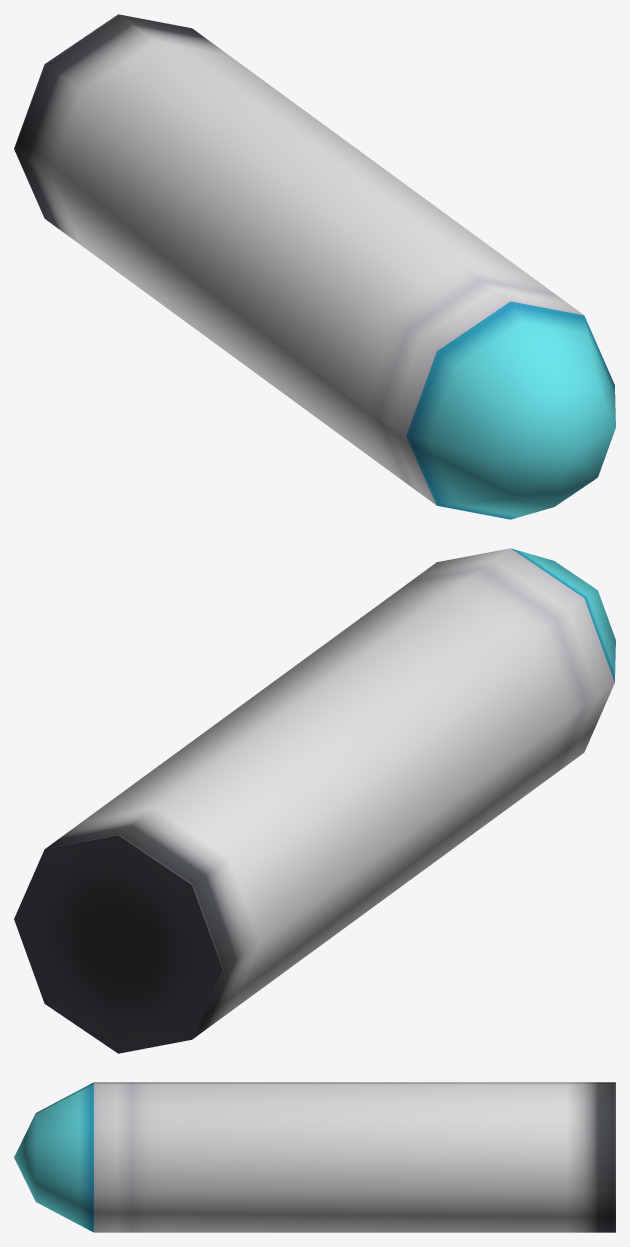
The model's file is Shiroko_Dron_Rocket.fbx.
3 views of the same model, one above another, from view 1: azimuth 30°, elevation 25°; view 2: azimuth 150°, elevation 25°; view 3: azimuth 270°, elevation 25° (orthographic). The views are drawn at different scales.
Visible parts, largest first — view 1: Shiroko_Dron_Rocket; view 2: Shiroko_Dron_Rocket; view 3: Shiroko_Dron_Rocket.
Part boxes in pixels (left/top/right/bottom): Shiroko_Dron_Rocket: left=14, top=14, right=615, bottom=519; Shiroko_Dron_Rocket: left=14, top=548, right=615, bottom=1053; Shiroko_Dron_Rocket: left=14, top=1082, right=615, bottom=1232.
Size of the model in its own units: 0.0575 by 0.0575 by 0.2159.
Materials: 1 (1 with a texture image).
